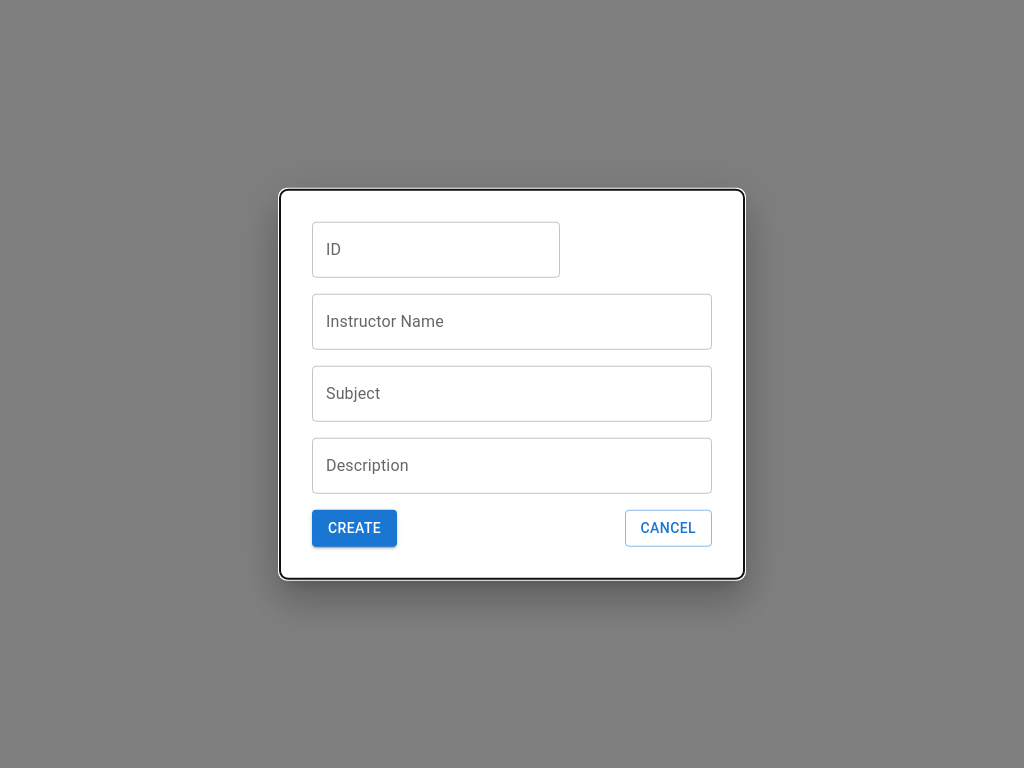
Test: CreateQuizModal › shows error message if fields are missing
Click the button "Create" at [355, 528], box 312,510 -> 397,546
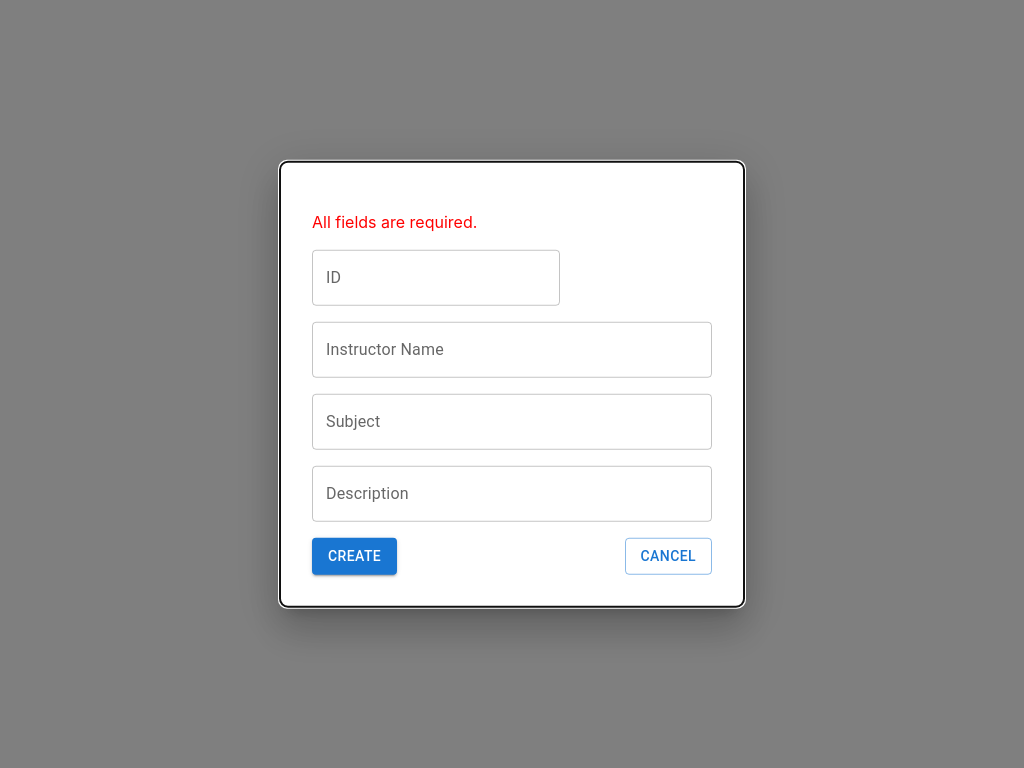
Check: the text "All fields are required." is shown, box 312,212 -> 477,232
